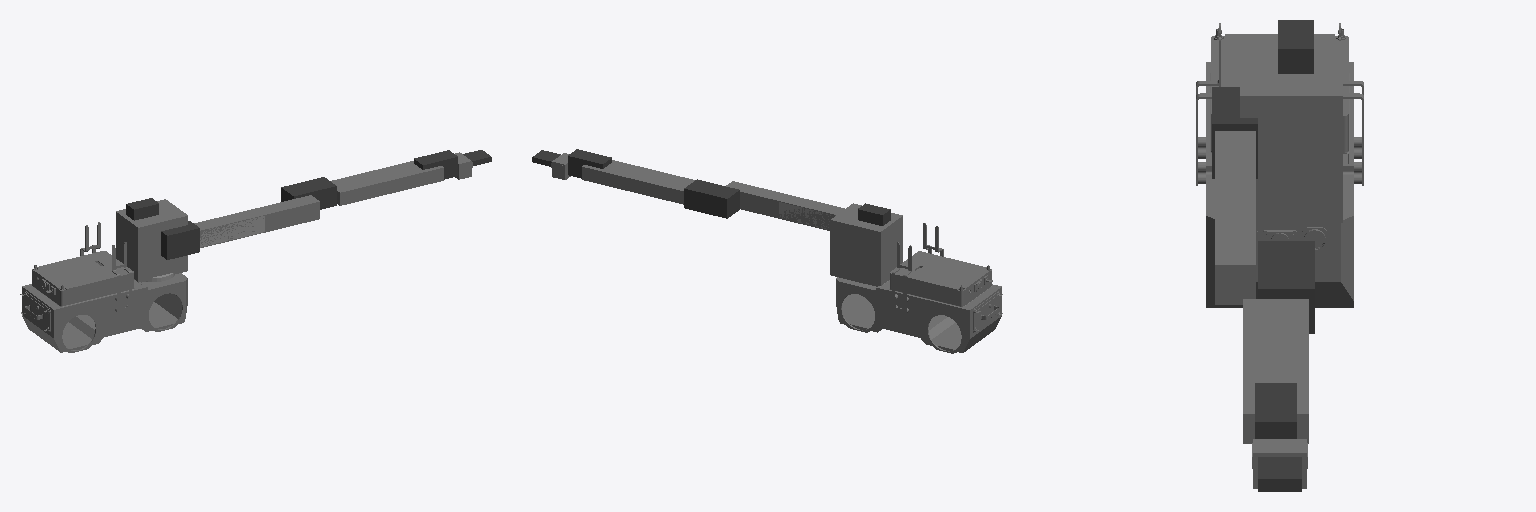
--- What the picture shows (computed from the rendered views, not written in the file) ---
The picture shows the robot from 3 angles, left to right: view 1: azimuth 30°, elevation 25°; view 2: azimuth 150°, elevation 25°; view 3: azimuth 270°, elevation 25°; orthographic projection.
Robot: max_complete — 17 links, 16 joints (5 revolute, 1 continuous, 4 prismatic, 6 fixed); root link base_footprint; default pose: all joints at 0 but 1 set to mid-range because 0 is outside their limits (gripperForward_joint = 0.045).
Visible links, largest first — view 1: base_link, turret_link, lowerArmTurn_link, upperArm_link, shoulder_link, lowerArmTilt_link, telescope_link, gripperTilt_link, turret_cam_case_link; view 2: base_link, turret_link, lowerArmTurn_link, upperArm_link, lowerArmTilt_link, gripperTilt_link, turret_cam_case_link; view 3: turret_link, base_link, upperArm_link, lowerArmTurn_link, lowerArmTilt_link, gripperTilt_link, turret_cam_case_link, shoulder_link, gripperTurn_link, gripperJawRight_link, gripperJawLeft_link.
Boxes of the visible links, <box> form: base_link: <box>20,222,187,352</box>; turret_link: <box>116,199,187,282</box>; lowerArmTurn_link: <box>331,161,443,205</box>; upperArm_link: <box>194,195,319,247</box>; shoulder_link: <box>161,221,199,259</box>; lowerArmTilt_link: <box>281,177,336,209</box>; telescope_link: <box>200,216,264,247</box>; gripperTilt_link: <box>414,150,457,179</box>; turret_cam_case_link: <box>126,198,158,220</box>; base_link: <box>836,223,1002,353</box>; turret_link: <box>830,203,902,286</box>; lowerArmTurn_link: <box>582,160,694,204</box>; upperArm_link: <box>726,181,844,230</box>; lowerArmTilt_link: <box>684,179,739,218</box>; gripperTilt_link: <box>568,149,611,178</box>; turret_cam_case_link: <box>858,203,890,225</box>; turret_link: <box>1240,41,1342,222</box>; base_link: <box>1196,23,1363,307</box>; upperArm_link: <box>1215,131,1255,304</box>; lowerArmTurn_link: <box>1243,299,1308,443</box>; lowerArmTilt_link: <box>1258,241,1314,333</box>; gripperTilt_link: <box>1255,383,1296,438</box>; turret_cam_case_link: <box>1278,20,1313,73</box>; shoulder_link: <box>1212,87,1257,178</box>; gripperTurn_link: <box>1253,439,1306,488</box>; gripperJawRight_link: <box>1258,457,1279,491</box>; gripperJawLeft_link: <box>1280,457,1301,491</box>.
Size in the robot's own frame: 2.16 by 0.304 by 0.6635 metres.
1 mesh visuals loaded from 1 distinct referenced files (1 binary STL).

The robot description file, URDF, robot "max_complete":
<?xml version="1.0" ?>
<!-- =================================================================================== -->
<!-- |    This document was autogenerated by xacro from max_complete.xacro             | -->
<!-- |    EDITING THIS FILE BY HAND IS NOT RECOMMENDED                                 | -->
<!-- =================================================================================== -->
<robot name="max_complete" xmlns:controller="http://playerstage.sourceforge.net/gazebo/xmlschema/#controller" xmlns:interface="http://playerstage.sourceforge.net/gazebo/xmlschema/#interface" xmlns:sensor="http://playerstage.sourceforge.net/gazebo/xmlschema/#sensor" xmlns:xacro="http://www.ros.org/wiki/xacro">
  <material name="Black">
    <color rgba="0.0 0.0 0.0 1.0"/>
  </material>
  <material name="Black2">
    <color rgba="0.25 0.25 0.25 1.0"/>
  </material>
  <material name="Blue">
    <color rgba="0.0 0.0 0.8 1.0"/>
  </material>
  <material name="Green">
    <color rgba="0.0 0.8 0.0 1.0"/>
  </material>
  <material name="Grey">
    <color rgba="0.7 0.7 0.7 1.0"/>
  </material>
  <material name="Grey2">
    <color rgba="0.9 0.9 0.9 1.0"/>
  </material>
  <material name="Grey3">
    <color rgba="0.5 0.5 0.5 1.0"/>
  </material>
  <material name="Red">
    <color rgba="0.8 0.0 0.0 1.0"/>
  </material>
  <material name="White">
    <color rgba="1.0 1.0 1.0 1.0"/>
  </material>
  <material name="Orange">
    <color rgba="1.0 0.5 0.0 1.0"/>
  </material>
  <material name="Front">
    <color rgba="1.0 0.25 0.0 1.0"/>
  </material>
  <material name="Rear">
    <color rgba="0.0 0.5 1.0 1.0"/>
  </material>
  <!-- Usage example:
  <xacro:include filename="$(find max_manipulator_driver)/urdf/max_manipulator.xacro" />
  <xacro:max_manipulator name="max_manipulator" parent="some_link">
    <origin xyz="0 0 0" rpy="0 0 0" />
  </xacro:max_manipulator>

  The origin of the manipulator is at the bottom center of the turret link. 
  The displacement to the parent link can be given in the origin tag.
-->
  <gazebo>
    <plugin filename="libgazebo_ros_control.so" name="gazebo_ros_control"/>
    <plugin filename="libgazebo_ros_joint_pose_trajectory.so" name="joint_trajectory_plugin">
      <topicName>joint_trajectory</topicName>
      <updateRate>1000.0</updateRate>
    </plugin>
  </gazebo>
  <!--TODO wenn Kamera auf Handgelenk gesteckt wird, aendern sich die Werte-->
  <!-- link, joint, and gazebo definitions of the wheels simulating the track -->
  <!-- Properties -->
  <!-- fictitious link(frame) that is on the ground right below base_link origin, the navigation stack depends on this frame -->
  <link name="base_footprint">
    <inertial>
      <origin rpy="0 0 0" xyz="0 0 0"/>
      <mass value="0.0001"/>
      <inertia ixx="0.0001" ixy="0.0" ixz="0.0" iyy="0.0001" iyz="0.0" izz="0.0001"/>
    </inertial>
    <visual>
      <origin rpy="0 0 0" xyz="0 0 0"/>
      <geometry>
        <box size="0.001 0.001 0.001"/>
      </geometry>
      <material name="Red"/>
    </visual>
    <collision>
      <origin rpy="0 0 0" xyz="0 0 0.151"/>
      <geometry>
        <box size="0.001 0.001 0.001"/>
      </geometry>
    </collision>
  </link>
  <!-- joint for the footprint link -->
  <joint name="base_footprint_joint" type="fixed">
    <origin rpy="0 0 0" xyz="0 0 0.151"/>
    <parent link="base_footprint"/>
    <child link="base_link"/>
  </joint>
  <!-- robot chassis link -->
  <link name="base_link">
    <inertial>
      <origin rpy="0 0 3.14159265359" xyz="-0.1 0 0"/>
      <mass value="50.0"/>
      <inertia ixx="1.0" ixy="0.0" ixz="0.0" iyy="1.0" iyz="0.0" izz="1.0"/>
    </inertial>
    <visual>
      <origin rpy="1.57079632679 0 3.14159265359" xyz="0 0 0"/>
      <geometry>
        <mesh filename="package://telerob/chassis.stl" scale="0.001 0.001 0.001"/>
      </geometry>
      <material name="Grey3"/>
    </visual>
    <collision>
      <origin rpy="0 0 3.14159265359" xyz="0 0 0.105"/>
      <geometry>
        <box size="0.65 0.27 0.20"/>
      </geometry>
    </collision>
  </link >
  <!-- flipper macros -->
  <!-- link definition -->
  <!-- link name="actuator_0_link">
    <inertial>
      <origin rpy="0 0 0" xyz="0 0 0"/>
      <mass value="0.1"/>
      <inertia ixx="1.0" ixy="0.0" ixz="0.0" iyy="1.0" iyz="0.0" izz="1.0"/>
    </inertial>
    <visual>
      <origin rpy="1.57079632679 3.14159265359 3.14159265359" xyz="0 0 0"/>
      <geometry>
        <mesh filename="package://telerob/flipper_fl.stl" scale="0.001 0.001 0.001"/>
      </geometry>
      <material name="Black2"/>
    </visual>
    <collision>
      <geometry>
        <box size="0.01 0.01 0.01"/>
      </geometry>
    </collision>
  </link -->
  <!-- joint definition -->
  <!--joint name="actuator_0_joint" type="revolute">
    <origin xyz="0.205 0 0.085"/>
    <axis xyz="0 1 0"/>
    <anchor xyz="0 0 0"/>
    <limit effort="100" lower="-1.57079632679" upper="1.3962634016" velocity="0.262745098"/>
    <parent link="base_link"/>
    <child link="actuator_0_link"/>
  </joint>
  <gazebo reference="actuator_0_link">
    <mu1>0.0</mu1>
    <mu2>0.0</mu2>
    <kp value="1000000.0"/>
    <kd value="1.0"/>
    <material>Gazebo/Blue</material>
    <turnGravityOff>false</turnGravityOff>
  </gazebo-->
  <!-- link definition -->
  <!--link name="actuator_1_link">
    <inertial>
      <origin rpy="0 0 0" xyz="0 0 0"/>
      <mass value="0.1"/>
      <inertia ixx="1.0" ixy="0.0" ixz="0.0" iyy="1.0" iyz="0.0" izz="1.0"/>
    </inertial>
    <visual>
      <origin rpy="1.57079632679 3.14159265359 3.14159265359" xyz="0 0 0"/>
      <geometry>
        <mesh filename="package://telerob/flipper_fr.stl" scale="0.001 0.001 0.001"/>
      </geometry>
      <material name="Black2"/>
    </visual>
    <collision>
      <geometry>
        <box size="0.01 0.01 0.01"/>
      </geometry>
    </collision>
  </link-->
  <!-- joint definition -->
  <!--joint name="actuator_1_joint" type="revolute">
    <origin xyz="0.205 0 0.085"/>
    <axis xyz="0 1 0"/>
    <anchor xyz="0 0 0"/>
    <limit effort="100" lower="-1.57079632679" upper="1.3962634016" velocity="0.262745098"/>
    <parent link="base_link"/>
    <child link="actuator_1_link"/>
  </joint>
  <gazebo reference="actuator_1_link">
    <mu1>0.0</mu1>
    <mu2>0.0</mu2>
    <kp value="1000000.0"/>
    <kd value="1.0"/>
    <material>Gazebo/Blue</material>
    <turnGravityOff>false</turnGravityOff>
  </gazebo-->
  <!-- link definition -->
  <!--link name="actuator_2_link">
    <inertial>
      <origin rpy="0 0 0" xyz="0 0 0"/>
      <mass value="0.1"/>
      <inertia ixx="1.0" ixy="0.0" ixz="0.0" iyy="1.0" iyz="0.0" izz="1.0"/>
    </inertial>
    <visual>
      <origin rpy="1.57079632679 3.14159265359 3.14159265359" xyz="0 0 0"/>
      <geometry>
        <mesh filename="package://telerob/flipper_rl.stl" scale="0.001 0.001 0.001"/>
      </geometry>
      <material name="Black2"/>
    </visual>
    <collision>
      <geometry>
        <box size="0.01 0.01 0.01"/>
      </geometry>
    </collision>
  </link-->
  <!-- joint definition -->
  <!--joint name="actuator_2_joint" type="revolute">
    <origin xyz="-0.205 0 0.085"/>
    <axis xyz="0 -1 0"/>
    <anchor xyz="0 0 0"/>
    <limit effort="100" lower="-1.57079632679" upper="1.3962634016" velocity="0.262745098"/>
    <parent link="base_link"/>
    <child link="actuator_2_link"/>
  </joint>
  <gazebo reference="actuator_2_link">
    <mu1>0.0</mu1>
    <mu2>0.0</mu2>
    <kp value="1000000.0"/>
    <kd value="1.0"/>
    <material>Gazebo/Blue</material>
    <turnGravityOff>false</turnGravityOff>
  </gazebo-->
  <!-- link definition -->
  <!--link name="actuator_3_link">
    <inertial>
      <origin rpy="0 0 0" xyz="0 0 0"/>
      <mass value="0.1"/>
      <inertia ixx="1.0" ixy="0.0" ixz="0.0" iyy="1.0" iyz="0.0" izz="1.0"/>
    </inertial>
    <visual>
      <origin rpy="1.57079632679 3.14159265359 3.14159265359" xyz="0 0 0"/>
      <geometry>
        <mesh filename="package://telerob/flipper_rr.stl" scale="0.001 0.001 0.001"/>
      </geometry>
      <material name="Black2"/>
    </visual>
    <collision>
      <geometry>
        <box size="0.01 0.01 0.01"/>
      </geometry>
    </collision>
  </link-->
  <!-- joint definition -->
  <!--joint name="actuator_3_joint" type="revolute">
    <origin xyz="-0.205 0 0.085"/>
    <axis xyz="0 -1 0"/>
    <anchor xyz="0 0 0"/>
    <limit effort="100" lower="-1.57079632679" upper="1.3962634016" velocity="0.262745098"/>
    <parent link="base_link"/>
    <child link="actuator_3_link"/>
  </joint>
  <gazebo reference="actuator_3_link">
    <mu1>0.0</mu1>
    <mu2>0.0</mu2>
    <kp value="1000000.0"/>
    <kd value="1.0"/>
    <material>Gazebo/Blue</material>
    <turnGravityOff>false</turnGravityOff>
  </gazebo-->
  <link name="manipulator_payload_link">
    <visual>
      <origin rpy="0 0 0" xyz="0.0 0.0 0.0"/>
      <geometry>
        <box size="0.0 0.0 0.0"/>
      </geometry>
    </visual>
    <collision>
      <origin rpy="0 0 0" xyz="0.0 0.0 0.0"/>
      <geometry>
        <box size="0.0 0.0 0.0"/>
      </geometry>
    </collision>
  </link>
  <joint name="base_to_payload_joint" type="fixed">
    <parent link="base_link"/>
    <child link="manipulator_payload_link"/>
    <origin rpy="0 0 0" xyz="0 0 0"/>
  </joint>
  <joint name="manipulator_payload_joint" type="fixed">
    <parent link="manipulator_payload_link"/>
    <child link="manipulator_base_link"/>
    <origin rpy="0 0 0" xyz="0.225 0.0 0.21"/>
  </joint>
  <link name="manipulator_base_link">
    <visual>
      <origin rpy="0 0 0" xyz="0 0 0"/>
      <geometry>
        <cylinder length="0.02" radius="0.09"/>
      </geometry>
      <material name="lightGrey">
        <color rgba="0.6 0.6 0.6 1"/>
      </material>
    </visual>
    <collision>
      <origin rpy="0 0 0" xyz="0 0 0"/>
      <geometry>
        <cylinder length="0.02" radius="0.09"/>
      </geometry>
    </collision>
    <inertial>
      <origin rpy="0 0 0" xyz="0 0 0"/>
      <mass value="0.0001"/>
      <inertia ixx="1.0" ixy="0.0" ixz="0.0" iyy="1.0" iyz="0.0" izz="1.0"/>
    </inertial>
  </link>
  <joint name="turretTurn_joint" type="revolute">
    <parent link="manipulator_base_link"/>
    <child link="turret_link"/>
    <origin rpy="0 0 0" xyz="0 0 0"/>
    <axis xyz="0 0 1"/>
    <limit effort="0.0174532925199" lower="-3.66519142919" upper="3.66519142919" velocity="0.628318530718"/>
  </joint>
  <link name="turret_link">
    <visual>
      <origin rpy="0 0 0" xyz="0.004 0.02135 0.126"/>
      <geometry>
        <box size="0.238 0.1857 0.252"/>
      </geometry>
      <material name="grey">
        <color rgba="0.5 0.5 0.5 1"/>
      </material>
    </visual>
    <collision>
      <origin rpy="0 0 0" xyz="0.004 0.02135 0.126"/>
      <geometry>
        <box size="0.238 0.1857 0.252"/>
      </geometry>
    </collision>
    <inertial>
      <origin rpy="0 0 0" xyz="0.004 0.02135 0.126"/>
      <mass value="1.0"/>
      <inertia ixx="1.0" ixy="0.0" ixz="0.0" iyy="1.0" iyz="0.0" izz="1.0"/>
    </inertial>
  </link>
  <joint name="turret_cam_case_joint" type="fixed">
    <parent link="turret_link"/>
    <child link="turret_cam_case_link"/>
    <origin rpy="0 0 0" xyz="0.0 0.0 0.252"/>
  </joint>
  <link name="turret_cam_case_link">
    <visual>
      <origin rpy="0 0 0" xyz="-0.035 0.0285 0.025"/>
      <geometry>
        <box size="0.12 0.065 0.05"/>
      </geometry>
      <material name="darkGrey">
        <color rgba="0.3 0.3 0.3 1"/>
      </material>
    </visual>
    <collision>
      <origin rpy="0 0 0" xyz="-0.035 0.0285 0.025"/>
      <geometry>
        <box size="0.12 0.065 0.05"/>
      </geometry>
    </collision>
    <inertial>
      <origin rpy="0 0 0" xyz="-0.035 0.0285 0.025"/>
      <mass value="1.0"/>
      <inertia ixx="1.0" ixy="0.0" ixz="0.0" iyy="1.0" iyz="0.0" izz="1.0"/>
    </inertial>
  </link>
  <joint name="upperArmTilt_joint" type="revolute">
    <parent link="turret_link"/>
    <child link="shoulder_link"/>
    <origin rpy="0 0 0" xyz="0.06 -0.081 0.155"/>
    <axis xyz="0 1 0"/>
    <limit effort="0.0174532925199" lower="-2.72271363311" upper="1.0471975512" velocity="0.418879020479"/>
  </joint>
  <link name="shoulder_link">
    <visual>
      <origin rpy="0 0 0" xyz="0.0115 0 0"/>
      <geometry>
        <box size="0.155 0.0822 0.110"/>
      </geometry>
      <material name="darkGrey">
        <color rgba="0.3 0.3 0.3 1"/>
      </material>
    </visual>
    <collision>
      <origin rpy="0 0 0" xyz="0.0115 0 0"/>
      <geometry>
        <box size="0.155 0.0822 0.110"/>
      </geometry>
    </collision>
    <inertial>
      <origin rpy="0 0 0" xyz="0.0115 0 0"/>
      <mass value="1.0"/>
      <inertia ixx="1.0" ixy="0.0" ixz="0.0" iyy="1.0" iyz="0.0" izz="1.0"/>
    </inertial>
  </link>
  <joint name="telescope_fixed_joint" type="fixed">
    <parent link="shoulder_link"/>
    <child link="telescope_link"/>
    <origin rpy="0 0 0" xyz="0.089 0.0 0.0"/>
  </joint>
  <link name="telescope_link">
    <visual>
      <origin rpy="0 0 0" xyz="0.155 0 0"/>
      <geometry>
        <box size="0.31 0.0741 0.0744"/>
      </geometry>
      <material name="lightGrey"/>
    </visual>
    <collision>
      <origin rpy="0 0 0" xyz="0.155 0 0"/>
      <geometry>
        <box size="0.31 0.0741 0.0744"/>
      </geometry>
    </collision>
    <inertial>
      <origin rpy="0 0 0" xyz="0.155 0 0"/>
      <mass value="1.0"/>
      <inertia ixx="1.0" ixy="0.0" ixz="0.0" iyy="1.0" iyz="0.0" izz="1.0"/>
    </inertial>
  </link>
  <joint name="telescope_joint" type="prismatic">
    <parent link="shoulder_link"/>
    <child link="upperArm_link"/>
    <origin rpy="0 0 0" xyz="0.089 0.0 0.0"/>
    <axis xyz="1 0 0"/>
    <limit effort="1.0" lower="-0.0005" upper="0.2905" velocity="0.065"/>
  </joint>
  <link name="upperArm_link">
    <visual>
      <origin rpy="0 0 0" xyz="0.286 0 0"/>
      <geometry>
        <box size="0.572 0.0741 0.0801"/>
      </geometry>
      <material name="grey"/>
    </visual>
    <collision>
      <origin rpy="0 0 0" xyz="0.286 0 0"/>
      <geometry>
        <box size="0.572 0.0741 0.0801"/>
      </geometry>
    </collision>
    <inertial>
      <origin rpy="0 0 0" xyz="0.286 0 0"/>
      <mass value="1.0"/>
      <inertia ixx="1.0" ixy="0.0" ixz="0.0" iyy="1.0" iyz="0.0" izz="1.0"/>
    </inertial>
  </link>
  <joint name="lowerArmTilt_joint" type="revolute">
    <parent link="upperArm_link"/>
    <child link="lowerArmTilt_link"/>
    <origin rpy="0 0 0" xyz="0.532 0.081 0.0"/>
    <axis xyz="0 1 0"/>
    <limit effort="0.0174532925199" lower="-2.96705972839" upper="2.96705972839" velocity="0.628318530718"/>
  </joint>
  <link name="lowerArmTilt_link">
    <visual>
      <origin rpy="0 0 0" xyz="0.0623 0.0117 0.005"/>
      <geometry>
        <box size="0.2046 0.1034 0.09"/>
      </geometry>
      <material name="darkGrey"/>
    </visual>
    <collision>
      <origin rpy="0 0 0" xyz="0.0623 0.0117 0.005"/>
      <geometry>
        <box size="0.2046 0.1034 0.09"/>
      </geometry>
    </collision>
    <inertial>
      <origin rpy="0 0 0" xyz="0.0623 0.0117 0.005"/>
      <mass value="1.0"/>
      <inertia ixx="1.0" ixy="0.0" ixz="0.0" iyy="1.0" iyz="0.0" izz="1.0"/>
    </inertial>
  </link>
  <joint name="lowerArmTurn_joint" type="revolute">
    <parent link="lowerArmTilt_link"/>
    <child link="lowerArmTurn_link"/>
    <origin rpy="0 0 0" xyz="0.1646 0.0 0.0"/>
    <axis xyz="1 0 0"/>
    <limit effort="0.0174532925199" lower="-3.66519142919" upper="3.66519142919" velocity="1.3962634016"/>
  </joint>
  <link name="lowerArmTurn_link">
    <visual>
      <origin rpy="0 0 0" xyz="0.247 -0.00745 0"/>
      <geometry>
        <box size="0.494 0.1195 0.06"/>
      </geometry>
      <material name="grey"/>
    </visual>
    <collision>
      <origin rpy="0 0 0" xyz="0.247 -0.00745 0"/>
      <geometry>
        <box size="0.494 0.1195 0.06"/>
      </geometry>
    </collision>
    <inertial>
      <origin rpy="0 0 0" xyz="0.247 -0.00745 0"/>
      <mass value="1.0"/>
      <inertia ixx="1.0" ixy="0.0" ixz="0.0" iyy="1.0" iyz="0.0" izz="1.0"/>
    </inertial>
  </link>
  <joint name="gripperTilt_joint" type="revolute">
    <parent link="lowerArmTurn_link"/>
    <child link="gripperTilt_link"/>
    <origin rpy="0 0 0" xyz="0.464 0.0 0.0"/>
    <axis xyz="0 1 0"/>
    <limit effort="0.0174532925199" lower="-2.26892802759" upper="2.26892802759" velocity="1.3962634016"/>
  </joint>
  <link name="gripperTilt_link">
    <visual>
      <origin rpy="0 0 0" xyz="0.025 -0.008 0.0073"/>
      <geometry>
        <box size="0.168 0.076 0.088"/>
      </geometry>
      <material name="darkGrey"/>
    </visual>
    <collision>
      <origin rpy="0 0 0" xyz="0.025 -0.008 0.0073"/>
      <geometry>
        <box size="0.168 0.076 0.088"/>
      </geometry>
    </collision>
    <inertial>
      <origin rpy="0 0 0" xyz="0.025 -0.008 0.0073"/>
      <mass value="1.0"/>
      <inertia ixx="1.0" ixy="0.0" ixz="0.0" iyy="1.0" iyz="0.0" izz="1.0"/>
    </inertial>
  </link>
  <joint name="gripperTurn_joint" type="continuous">
    <parent link="gripperTilt_link"/>
    <child link="gripperTurn_link"/>
    <origin rpy="0 0 0" xyz="0.109 0.0 0.0"/>
    <axis xyz="1 0 0"/>
    <limit effort="0.0174532925199" lower="-9999" upper="9999" velocity="1.3962634016"/>
  </joint>
  <link name="gripperTurn_link">
    <visual>
      <origin rpy="0 0 0" xyz="0.0315 0 -0.01705"/>
      <geometry>
        <box size="0.063 0.098 0.0709"/>
      </geometry>
      <material name="grey"/>
    </visual>
    <collision>
      <origin rpy="0 0 0" xyz="0.0315 0 -0.01705"/>
      <geometry>
        <box size="0.063 0.098 0.0709"/>
      </geometry>
    </collision>
    <inertial>
      <origin rpy="0 0 0" xyz="0.0315 0 -0.01705"/>
      <mass value="1.0"/>
      <inertia ixx="1.0" ixy="0.0" ixz="0.0" iyy="1.0" iyz="0.0" izz="1.0"/>
    </inertial>
  </link>
  <!-- gripper dummy:
  <joint name="gripperDummy_joint" type="fixed">
      <parent link="gripperTurn_link"/>
      <child link="gripperDummy_link"/>
      <origin xyz="0.063 0.0 0.0" rpy="0 0 0" />
  </joint>

  <xacro:gen_link name="gripperDummy_link" mass="1.0">
      <origin xyz="${0.112/2} 0 ${-0.0184 + (0.0184+0.0525)/2}" rpy="0 0 0"/>
      <geometry>
          <box size="0.112 ${0.01 + 2*0.04} ${0.0184+0.0525}" />
      </geometry>
      <material name="blue">
          <color rgba="0.0 0.0 0.8 1"/>
      </material>
  </xacro:gen_link>
  -->
  <!-- When the gripper is opened, it moves forwards/backwards in addition to
       the lateral movement. This is modeled with a prismatic joint 
       (gripperForward_joint). The gripperForward_joint models the line segment
       depicted as 'a' in gripper.svg. Therefore, its maximum length is 60mm at
       a gripper width of 10mm and its minimum length is about 33mm at the 
       maximum gripper width of 120mm.
       The gripperForwardJoint is located 20mm in x-direction of the 
       gripperTurn_joint ('f' in gripper.svg).
  -->
  <joint name="gripperForward_joint" type="prismatic">
    <parent link="gripperTurn_link"/>
    <child link="gripperForward_link"/>
    <origin rpy="0 0 0" xyz="0.02 0 0"/>
    <axis xyz="1 0 0"/>
    <limit effort="1.0" lower="0.03" upper="0.06" velocity="0.08"/>
  </joint>
  <link name="gripperForward_link">
    <visual>
      <origin rpy="0 0 0" xyz="-0.03 0 0"/>
      <geometry>
        <box size="0.06 0.1 0.024"/>
      </geometry>
      <material name="grey"/>
    </visual>
    <collision>
      <origin rpy="0 0 0" xyz="-0.03 0 0"/>
      <geometry>
        <box size="0.06 0.1 0.024"/>
      </geometry>
    </collision>
    <inertial>
      <origin rpy="0 0 0" xyz="-0.03 0 0"/>
      <mass value="1.0"/>
      <inertia ixx="1.0" ixy="0.0" ixz="0.0" iyy="1.0" iyz="0.0" izz="1.0"/>
    </inertial>
  </link>
  <joint name="gripperJawRight_joint" type="prismatic">
    <parent link="gripperForward_link"/>
    <child link="gripperJawRight_link"/>
    <origin rpy="0 0 0" xyz="0 0 0"/>
    <axis xyz="0 -1 0"/>
    <limit effort="1.0" lower="0.0" upper="0.06" velocity="0.0085"/>
  </joint>
  <link name="gripperJawRight_link">
    <visual>
      <origin rpy="0 0 0" xyz="0.048 -0.02 0.0"/>
      <geometry>
        <box size="0.096 0.04 0.024"/>
      </geometry>
      <material name="darkGrey"/>
    </visual>
    <collision>
      <origin rpy="0 0 0" xyz="0.048 -0.02 0.0"/>
      <geometry>
        <box size="0.096 0.04 0.024"/>
      </geometry>
    </collision>
    <inertial>
      <origin rpy="0 0 0" xyz="0.048 -0.02 0.0"/>
      <mass value="1.0"/>
      <inertia ixx="1.0" ixy="0.0" ixz="0.0" iyy="1.0" iyz="0.0" izz="1.0"/>
    </inertial>
  </link>
  <joint name="gripperWidth_joint" type="prismatic">
    <parent link="gripperJawRight_link"/>
    <child link="gripperJawLeft_link"/>
    <origin rpy="0 0 0" xyz="0 0 0.0"/>
    <axis xyz="0 1 0"/>
    <limit effort="1.0" lower="0.0" upper="0.12" velocity="0.017"/>
  </joint>
  <link name="gripperJawLeft_link">
    <visual>
      <origin rpy="0 0 0" xyz="0.048 0.02 0.0"/>
      <geometry>
        <box size="0.096 0.04 0.024"/>
      </geometry>
      <material name="darkGrey"/>
    </visual>
    <collision>
      <origin rpy="0 0 0" xyz="0.048 0.02 0.0"/>
      <geometry>
        <box size="0.096 0.04 0.024"/>
      </geometry>
    </collision>
    <inertial>
      <origin rpy="0 0 0" xyz="0.048 0.02 0.0"/>
      <mass value="1.0"/>
      <inertia ixx="1.0" ixy="0.0" ixz="0.0" iyy="1.0" iyz="0.0" izz="1.0"/>
    </inertial>
  </link>
  <joint name="gripperTCP_joint" type="fixed">
    <parent link="gripperForward_link"/>
    <child link="gripperTCP_link"/>
    <origin rpy="0 0 0" xyz="0.056 0 0.0"/>
    <!-- The gripperTCP_joint is in the center of the gripper. 
           That is at equal distance to both gripper jaws and 4cm back from
           the tip. -->
  </joint>
  <link name="gripperTCP_link">
    <visual>
      <!-- The visual is at the tcp. -->
      <origin rpy="0 0 0" xyz="0 0 0"/>
      <geometry>
        <box size="0.01 0.01 0.01"/>
      </geometry>
      <material name="green">
        <color rgba="0.0 1.0 0.0 1"/>
      </material>
    </visual>
    <collision>
      <!-- The gripperTCP_link shall never cause collisions. The 
                 collision geometry is moved backwards to be always within the 
                 manipulator.
                 -->
      <origin rpy="0 0 0" xyz="-0.096 0.0 0.0"/>
      <geometry>
        <box size="0.001 0.001 0.001"/>
      </geometry>
    </collision>
  </link>
  <transmission name="turretTurn_trans">
    <type>transmission_interface/SimpleTransmission</type>
    <joint name="turretTurn_joint">
      <hardwareInterface>EffortJointInterface</hardwareInterface>
    </joint>
    <actuator name="turretTurn_motor">
      <mechanicalReduction>1</mechanicalReduction>
    </actuator>
  </transmission>
  <transmission name="upperArmTilt_trans">
    <type>transmission_interface/SimpleTransmission</type>
    <joint name="upperArmTilt_joint">
      <hardwareInterface>EffortJointInterface</hardwareInterface>
    </joint>
    <actuator name="upperArmTilt_motor">
      <mechanicalReduction>1</mechanicalReduction>
    </actuator>
  </transmission>
  <transmission name="telescope_trans">
    <type>transmission_interface/SimpleTransmission</type>
    <joint name="telescope_joint">
      <hardwareInterface>EffortJointInterface</hardwareInterface>
    </joint>
    <actuator name="telescope_motor">
      <mechanicalReduction>1</mechanicalReduction>
    </actuator>
  </transmission>
  <transmission name="lowerArmTilt_trans">
    <type>transmission_interface/SimpleTransmission</type>
    <joint name="lowerArmTilt_joint">
      <hardwareInterface>EffortJointInterface</hardwareInterface>
    </joint>
    <actuator name="lowerArmTilt_motor">
      <mechanicalReduction>1</mechanicalReduction>
    </actuator>
  </transmission>
  <transmission name="lowerArmTurn_trans">
    <type>transmission_interface/SimpleTransmission</type>
    <joint name="lowerArmTurn_joint">
      <hardwareInterface>EffortJointInterface</hardwareInterface>
    </joint>
    <actuator name="lowerArmTurn_motor">
      <mechanicalReduction>1</mechanicalReduction>
    </actuator>
  </transmission>
  <transmission name="gripperTilt_trans">
    <type>transmission_interface/SimpleTransmission</type>
    <joint name="gripperTilt_joint">
      <hardwareInterface>EffortJointInterface</hardwareInterface>
    </joint>
    <actuator name="gripperTilt_motor">
      <mechanicalReduction>1</mechanicalReduction>
    </actuator>
  </transmission>
  <transmission name="gripperTurn_trans">
    <type>transmission_interface/SimpleTransmission</type>
    <joint name="gripperTurn_joint">
      <hardwareInterface>EffortJointInterface</hardwareInterface>
    </joint>
    <actuator name="gripperTurn_motor">
      <mechanicalReduction>1</mechanicalReduction>
    </actuator>
  </transmission>
  <transmission name="gripperForward_trans">
    <type>transmission_interface/SimpleTransmission</type>
    <joint name="gripperForward_joint">
      <hardwareInterface>EffortJointInterface</hardwareInterface>
    </joint>
    <actuator name="gripperForward_motor">
      <mechanicalReduction>1</mechanicalReduction>
    </actuator>
  </transmission>
  <transmission name="gripperJawRight_trans">
    <type>transmission_interface/SimpleTransmission</type>
    <joint name="gripperJawRight_joint">
      <hardwareInterface>EffortJointInterface</hardwareInterface>
    </joint>
    <actuator name="gripperJawRight_motor">
      <mechanicalReduction>1</mechanicalReduction>
    </actuator>
  </transmission>
  <transmission name="gripperJawLeft_trans">
    <type>transmission_interface/SimpleTransmission</type>
    <joint name="gripperJawLeft_joint">
      <hardwareInterface>EffortJointInterface</hardwareInterface>
    </joint>
    <actuator name="gripperJawLeft_motor">
      <mechanicalReduction>1</mechanicalReduction>
    </actuator>
  </transmission>
</robot>
